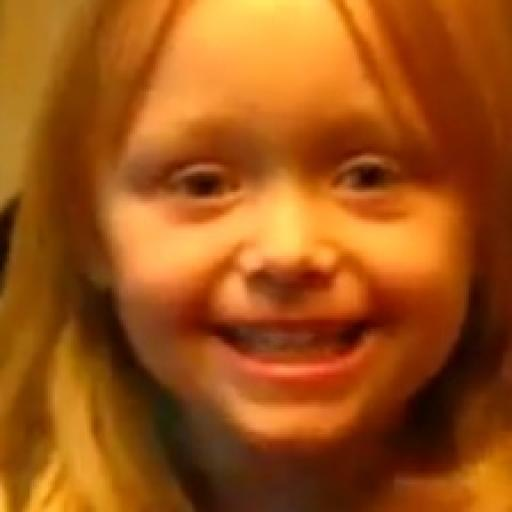Autism: (74, 23, 492, 471)
